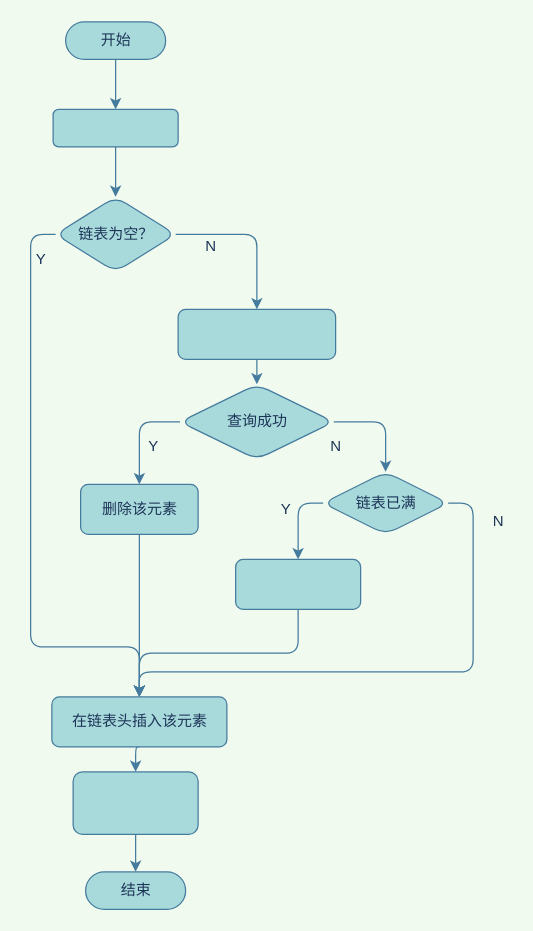
Some shapes in this 533 by 931 pixel diagram are drawn without their labels. The centre of each missing label's shape, as x and y in pixels:
"删除尾节点" goes at point 297,583.
"打印链表" goes at point 135,802.
"输入一个元素" goes at point 115,127.
"链表轮询，查找该元素" goes at point 256,333.
